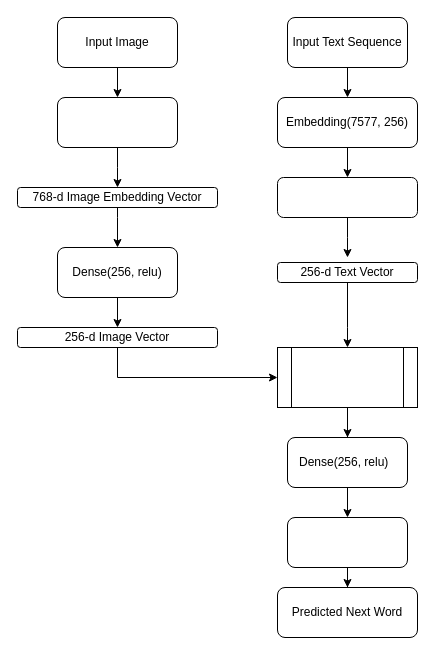
This 435x655 diagram has some shape labels left out. The shapes that lost their labels are listed below. From the top down, each one's centre as x and y in pixels, then its label:
At (x=117, y=122): "Vision Transformer (ViT Encoder)".
At (x=347, y=197): "LSTM(256 units)".
At (x=347, y=377): "Add".
At (x=347, y=542): "Dense(7577, Softmax activation)".
